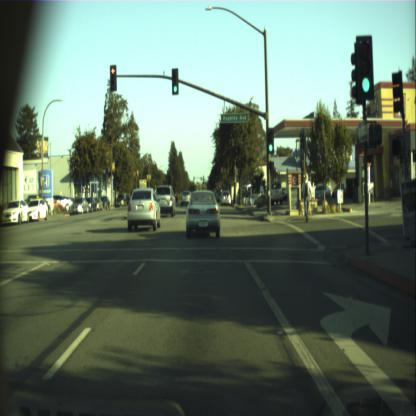Green: (356, 35, 372, 99), (266, 128, 274, 153), (172, 68, 178, 94)
RedLeft: (109, 64, 116, 90)
